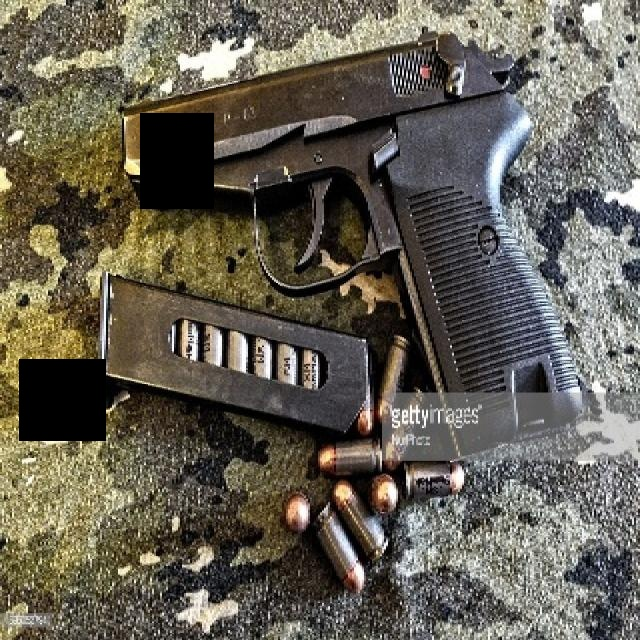gun: (117, 20, 583, 437)
